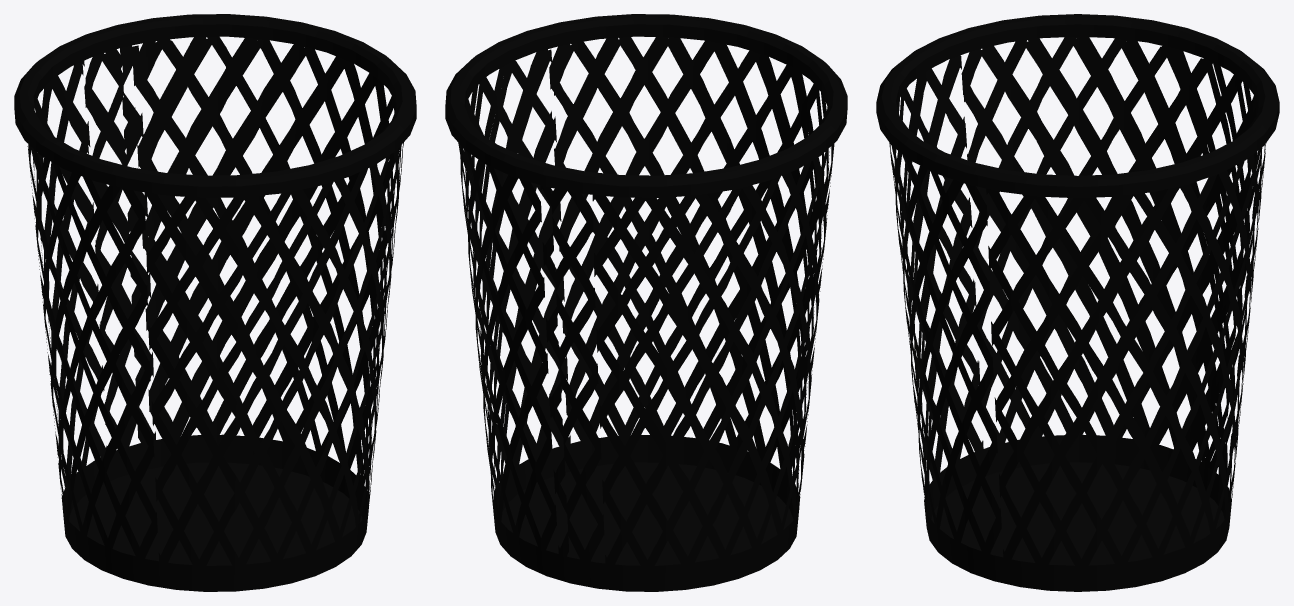
File: Trash_can.fbx
3 renders of one model, left to right at view 1: azimuth 30°, elevation 25°; view 2: azimuth 150°, elevation 25°; view 3: azimuth 270°, elevation 25°, orthographic.
Parts seen in each view (by area): view 1: Trash_Can; view 2: Trash_Can; view 3: Trash_Can.
Part boxes in pixels (<box>): Trash_Can: <box>14,14,416,591</box>; Trash_Can: <box>445,14,847,591</box>; Trash_Can: <box>876,14,1279,591</box>.
Size of the model in its own units: 105 by 124 by 105.
